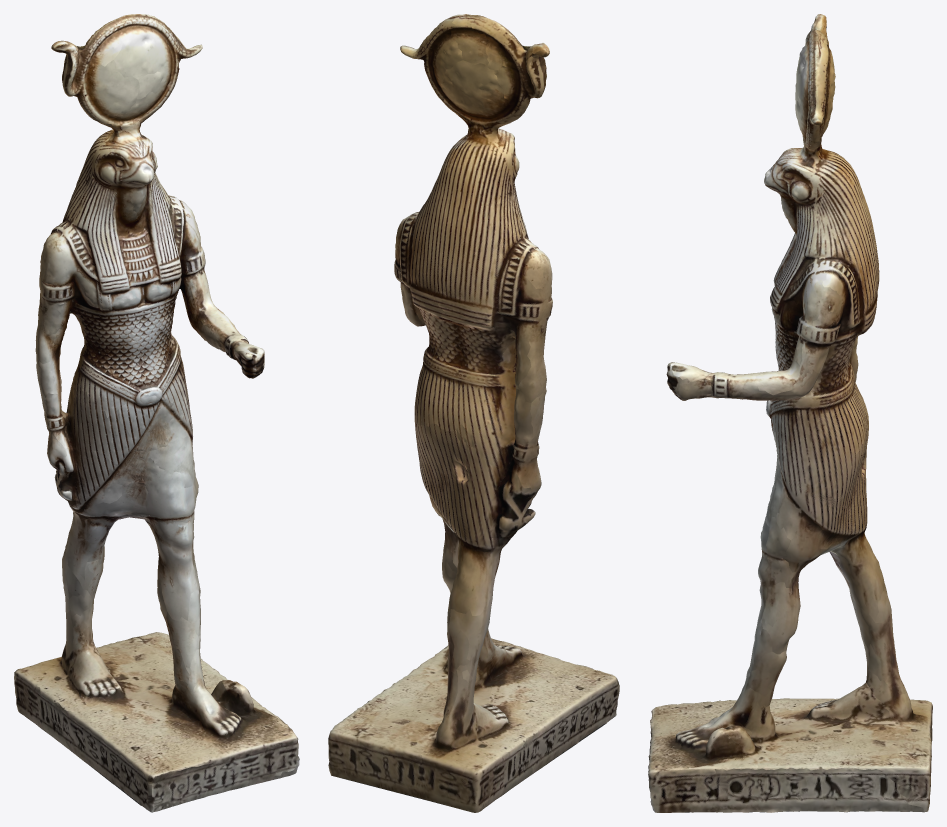
Rendered from sunra.fbx.
3 views of the same model, side by side, from view 1: azimuth 30°, elevation 25°; view 2: azimuth 150°, elevation 25°; view 3: azimuth 270°, elevation 25° (orthographic). The views are drawn at different scales.
Parts seen in each view (by area): view 1: Ra; view 2: Ra; view 3: Ra.
Boxes of the visible parts, bbox=[...] form: Ra: bbox=[14, 14, 299, 812]; Ra: bbox=[328, 14, 619, 812]; Ra: bbox=[648, 14, 932, 812].
Bounding box in the file's own units: 10.98 × 45 × 15.75.
